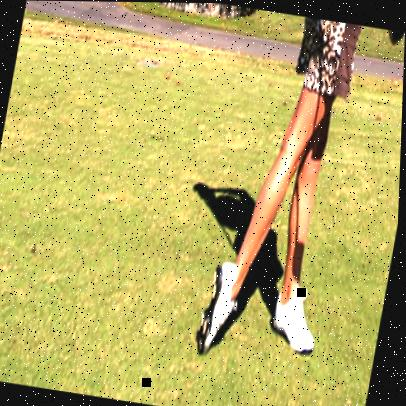GolfBall: (372, 26, 405, 52)
